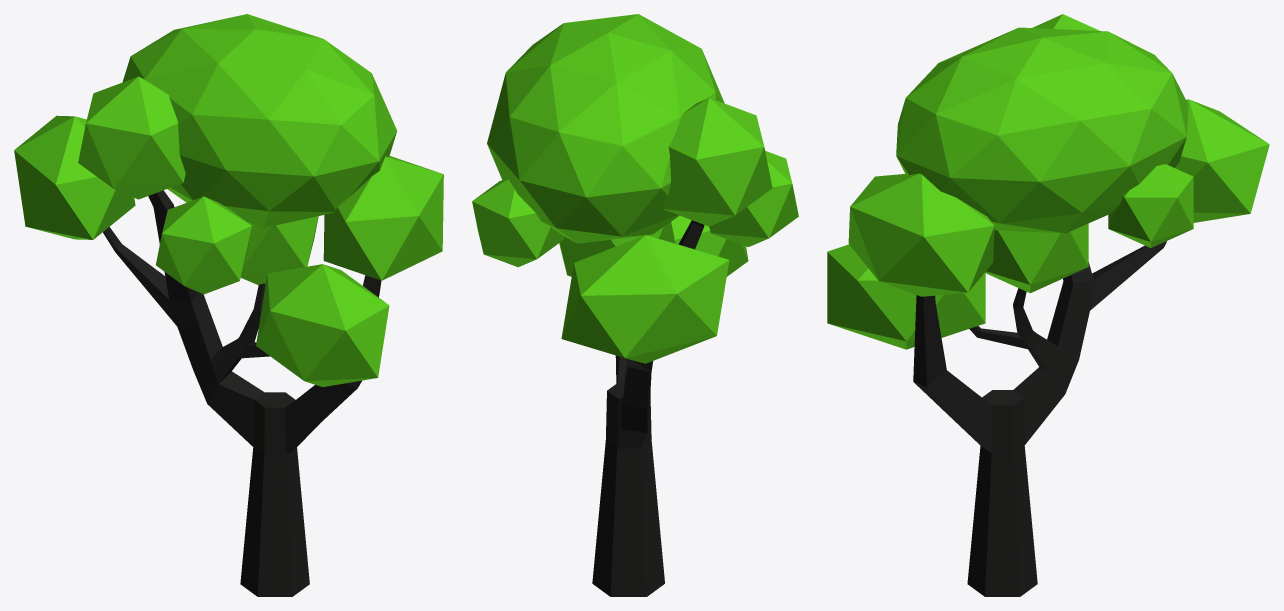
Rendered from tree4.fbx.
The picture shows the model from 3 angles, left to right: view 1: azimuth 30°, elevation 25°; view 2: azimuth 150°, elevation 25°; view 3: azimuth 270°, elevation 25°; orthographic projection. The views are drawn at different scales.
Parts seen in each view (by area): view 1: Icosphere.004, Cylinder, Icosphere.003, Icosphere.001, Icosphere.005, Icosphere, Icosphere.006, Icosphere.002; view 2: Icosphere.004, Icosphere, Cylinder, Icosphere.005, Icosphere.016, Icosphere.006, Icosphere.003, Icosphere.002; view 3: Icosphere.004, Cylinder, Icosphere.001, Icosphere.003, Icosphere, Icosphere.002, Icosphere.016, Icosphere.005.
Boxes of the visible parts, bbox=[...] form: Icosphere.004: bbox=[122, 14, 396, 227]; Cylinder: bbox=[103, 190, 381, 596]; Icosphere.003: bbox=[256, 264, 389, 386]; Icosphere.001: bbox=[323, 156, 443, 280]; Icosphere.005: bbox=[78, 76, 185, 199]; Icosphere: bbox=[14, 115, 135, 239]; Icosphere.006: bbox=[156, 196, 251, 294]; Icosphere.002: bbox=[241, 216, 318, 285]; Icosphere.004: bbox=[487, 14, 724, 243]; Icosphere: bbox=[561, 235, 729, 363]; Cylinder: bbox=[592, 220, 704, 596]; Icosphere.005: bbox=[661, 98, 772, 226]; Icosphere.016: bbox=[472, 179, 564, 267]; Icosphere.006: bbox=[709, 151, 798, 246]; Icosphere.003: bbox=[671, 215, 748, 276]; Icosphere.002: bbox=[559, 222, 675, 276]; Icosphere.004: bbox=[896, 27, 1188, 233]; Cylinder: bbox=[913, 241, 1166, 596]; Icosphere.001: bbox=[848, 173, 994, 296]; Icosphere.003: bbox=[827, 244, 985, 349]; Icosphere: bbox=[1175, 99, 1269, 222]; Icosphere.002: bbox=[985, 223, 1088, 293]; Icosphere.016: bbox=[1108, 164, 1193, 247]; Icosphere.005: bbox=[1032, 14, 1099, 30].
Bounding box in the file's own units: 266 × 464 × 340.
